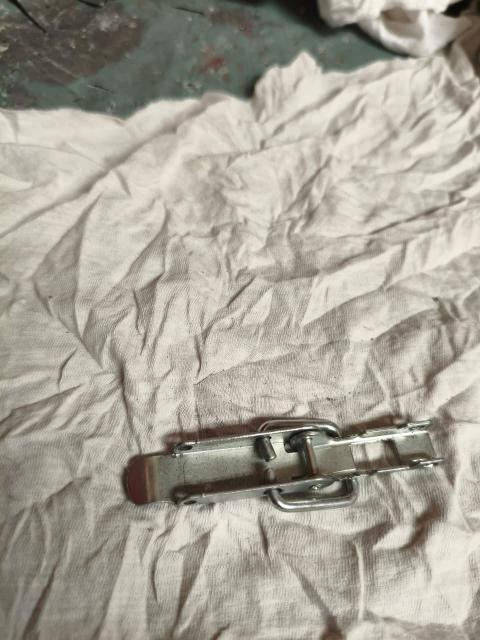Metal: (122, 422, 442, 518)
